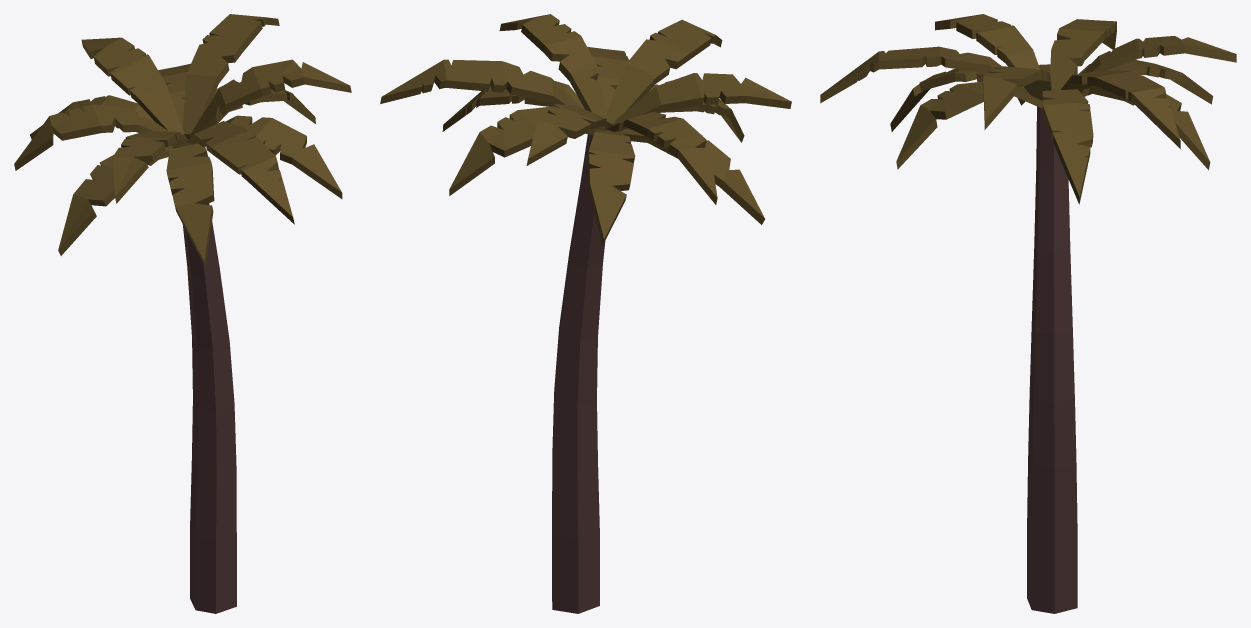
Rendered from palm_tree_4.glb.
3 views of the same model, side by side, from view 1: azimuth 30°, elevation 25°; view 2: azimuth 150°, elevation 25°; view 3: azimuth 270°, elevation 25° (orthographic). The views are drawn at different scales.
Parts seen in each view (by area): view 1: treetype3_4.335; view 2: treetype3_4.335; view 3: treetype3_4.335.
Boxes of the visible parts, left/top/right/bottom form: treetype3_4.335: left=14, top=14, right=351, bottom=613; treetype3_4.335: left=380, top=14, right=791, bottom=613; treetype3_4.335: left=820, top=14, right=1236, bottom=613.
Size of the model in its own units: 4.37 by 7.53 by 5.09.
1 material, 1 textured.
